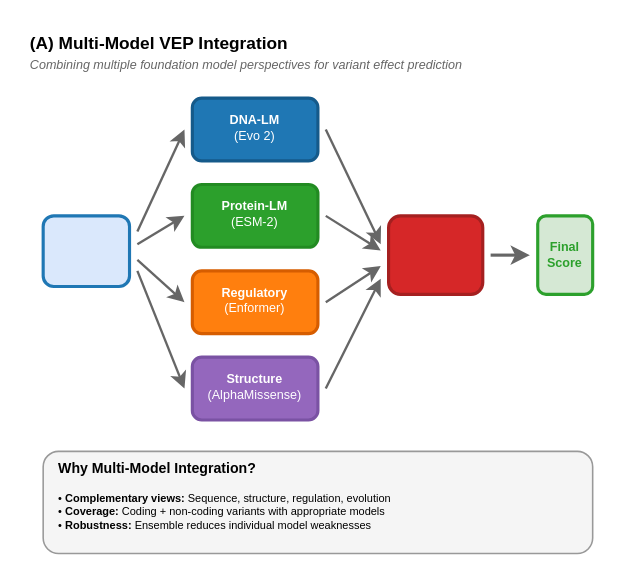
Some shapes in this 620 by 581 pixel diagram are drawn without their labels. The centre of each missing label's shape, as x and y in pixels:
"Integration Layer" goes at [435,254].
"Variant" goes at [85,250].
